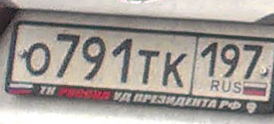character: (55, 32, 81, 80), (81, 36, 107, 83), (111, 37, 134, 87), (162, 48, 188, 89), (25, 39, 51, 78), (242, 40, 264, 83), (137, 48, 161, 87), (220, 42, 240, 81), (200, 40, 219, 81)
